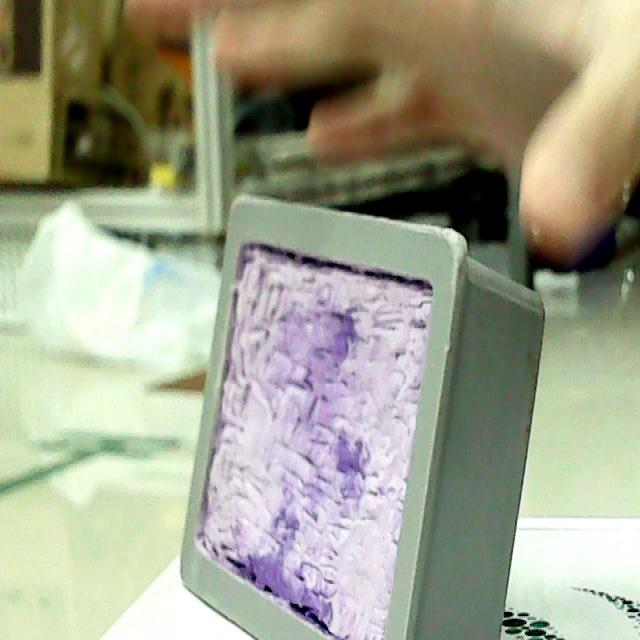block: (175, 193, 550, 640)
